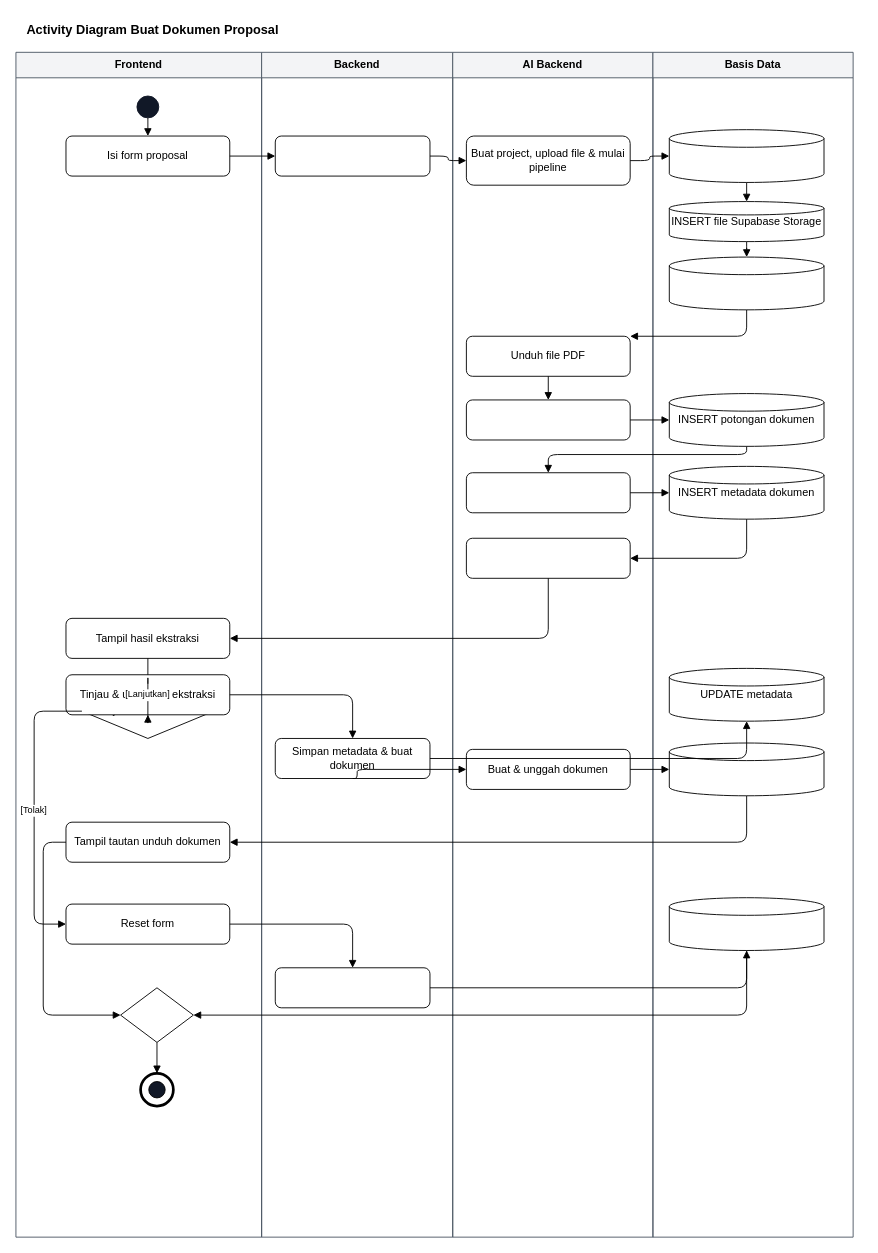
Some shapes in this 878 by 1253 pixel diagram are drawn without their labels. Here are the shapes that lost their labels. From the top down, the centre of each, then its label:
point (352, 155): Teruskan permintaan ke AI Backend
point (746, 155): INSERT project
point (746, 283): UPDATE status project
point (547, 419): Pecah & indeks dokumen
point (547, 492): Ekstraksi metadata dokumen
point (547, 557): Generate placeholder dari metadata
point (746, 769): UPDATE status & tautan hasil
point (746, 923): DELETE metadata & project
point (352, 987): Hapus metadata & project
